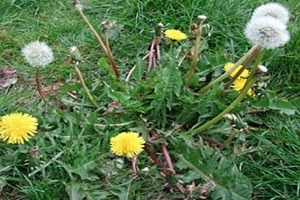dandelion: (105, 129, 155, 168), (1, 108, 39, 145), (225, 63, 254, 102), (166, 27, 192, 46)
